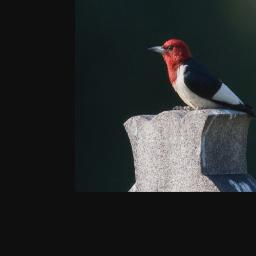Woodpecker: (144, 36, 256, 126)
